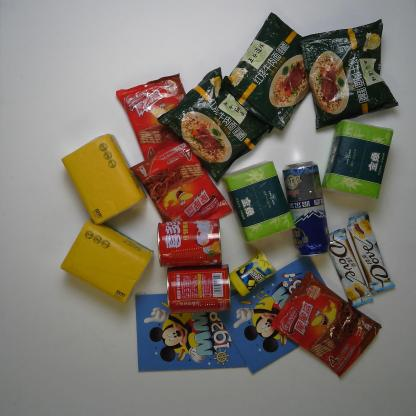Alcohol: (282, 160, 331, 260)
Canned Food: (164, 263, 232, 313), (155, 220, 223, 267)
Chocolate: (346, 210, 398, 297), (325, 225, 375, 310)
Dessert: (269, 270, 383, 378), (129, 140, 234, 223), (115, 72, 185, 161)
Gum: (229, 249, 276, 296)
Instant Noodles: (156, 66, 274, 185), (298, 17, 400, 134), (221, 11, 312, 133)
Stationery: (217, 254, 328, 376), (134, 292, 250, 375)
Tissue: (59, 216, 154, 304), (62, 132, 148, 224), (220, 160, 297, 246), (322, 119, 394, 201)
